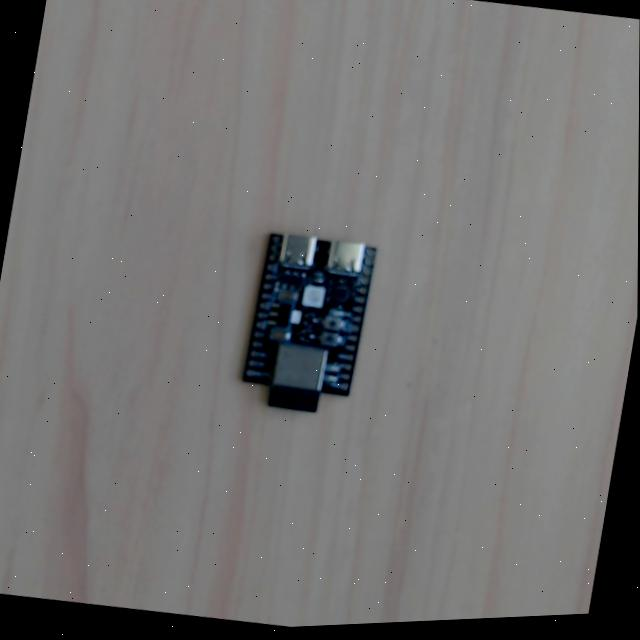ESP32C3-DevKit: (236, 225, 376, 419)
